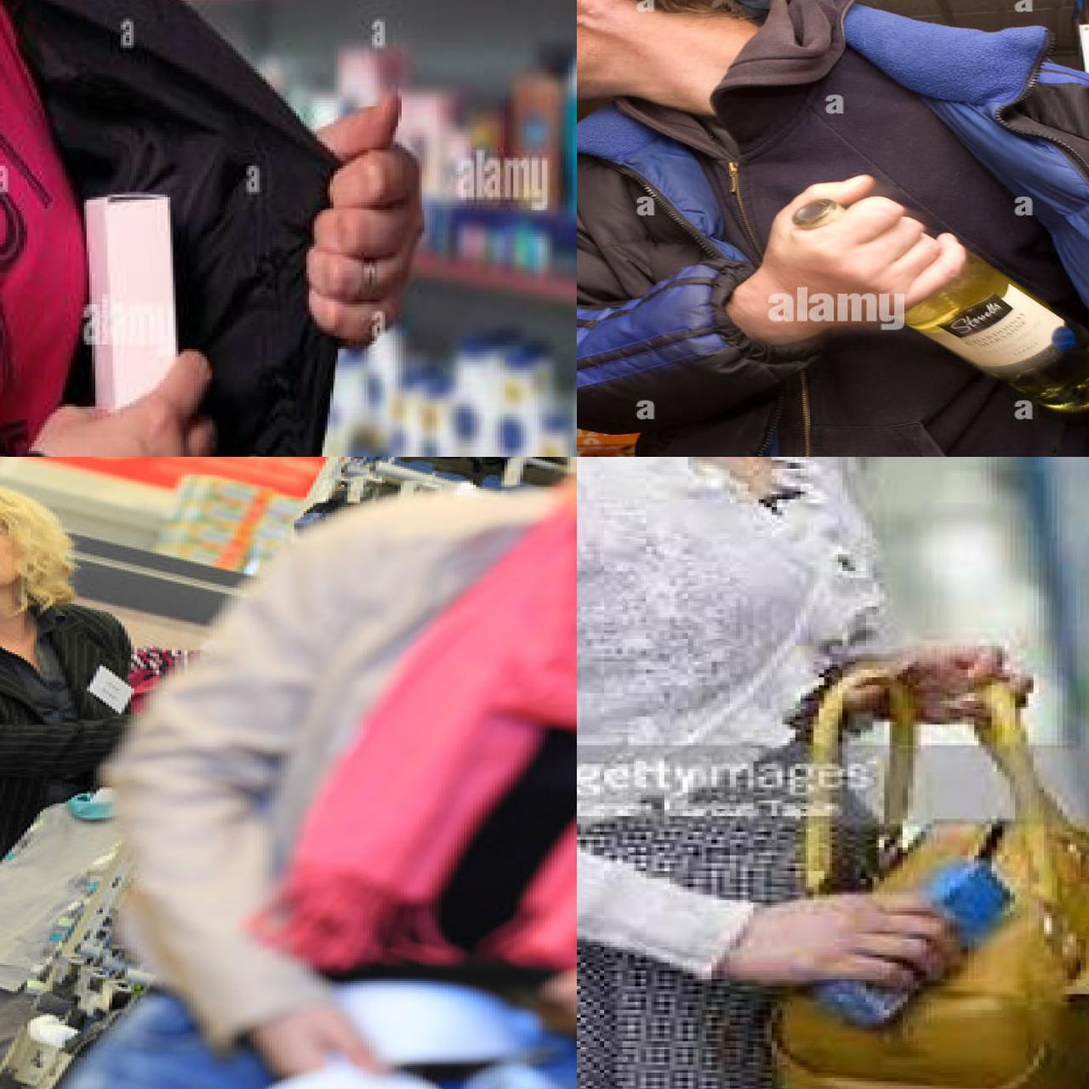shoplifting: (710, 579, 1089, 1086), (14, 112, 468, 476), (705, 105, 1089, 455)
